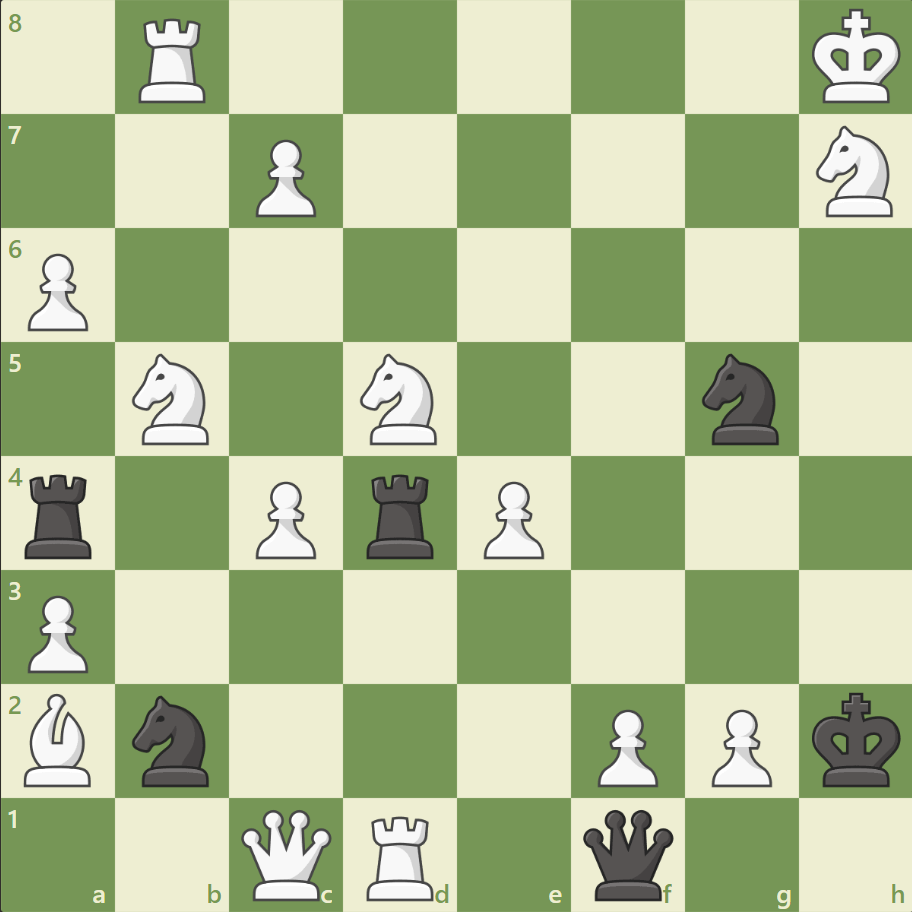B: (17, 687, 101, 790)
K: (806, 4, 906, 112)
N: (124, 348, 222, 450), (351, 348, 449, 450), (806, 121, 903, 223)
P: (247, 132, 322, 223), (20, 246, 95, 337), (247, 473, 322, 564), (474, 473, 549, 564), (20, 586, 95, 677), (701, 700, 776, 791), (588, 700, 662, 791)
Q: (237, 804, 336, 903)
R: (360, 806, 442, 904), (133, 12, 215, 109)
k: (806, 685, 906, 793)
n: (124, 688, 222, 791), (692, 348, 789, 450)
q: (578, 804, 677, 903)
r: (19, 466, 102, 563), (360, 466, 442, 563)
